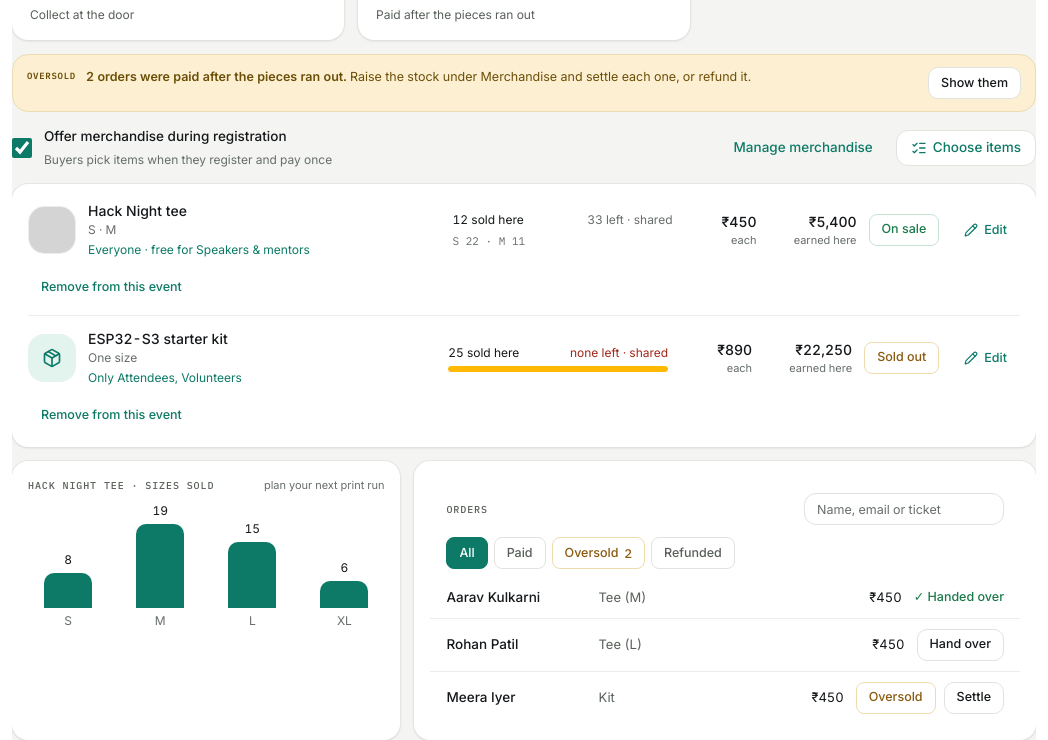
an event's merchandise › filters the orders by status, oversold among them
(page scrolled)
Expected: the text "Meera Iyer" is shown, [446,690,516,706]
Step 1. Click the button "Oversold 2" → (598, 553), box [552,537,645,569]
(page scrolled)
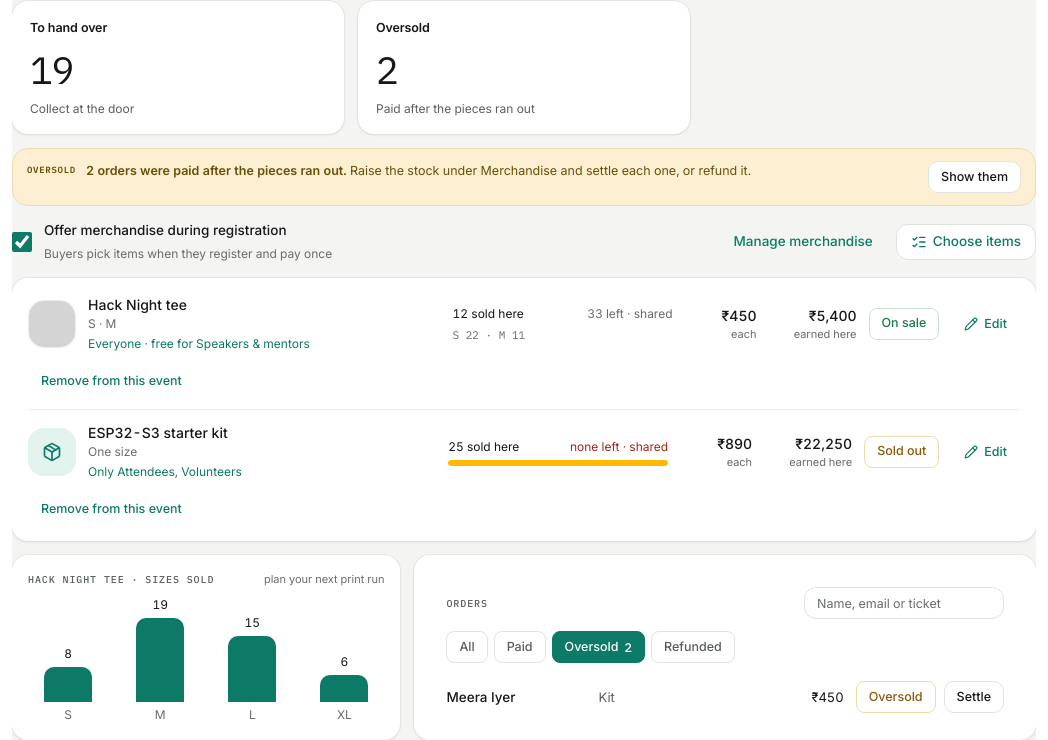
Expected: the text "Meera Iyer" is shown, [446,689,516,705]
Expected: the text "Rohan Patil" is gone
Step 2. Click the button "Refunded" → (693, 647), box [651,631,735,663]
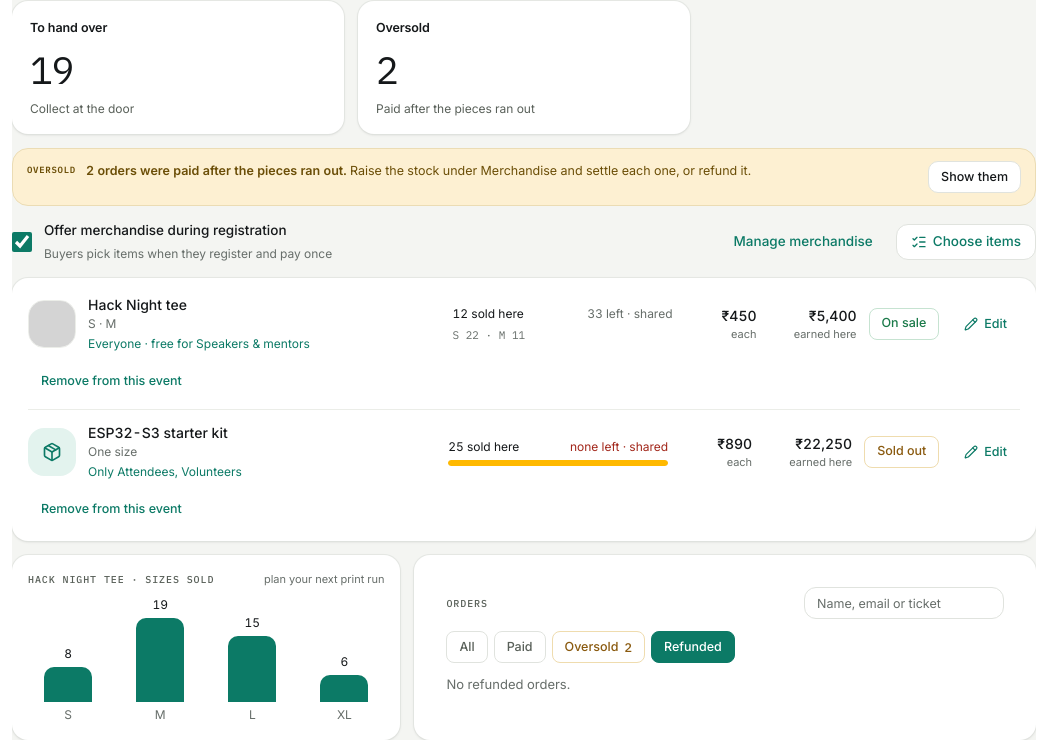
Expected: the text "No refunded orders." is shown, [446,676,570,692]
Step 3. Click the button "All" → (467, 647), box [446,631,488,663]
(page scrolled)
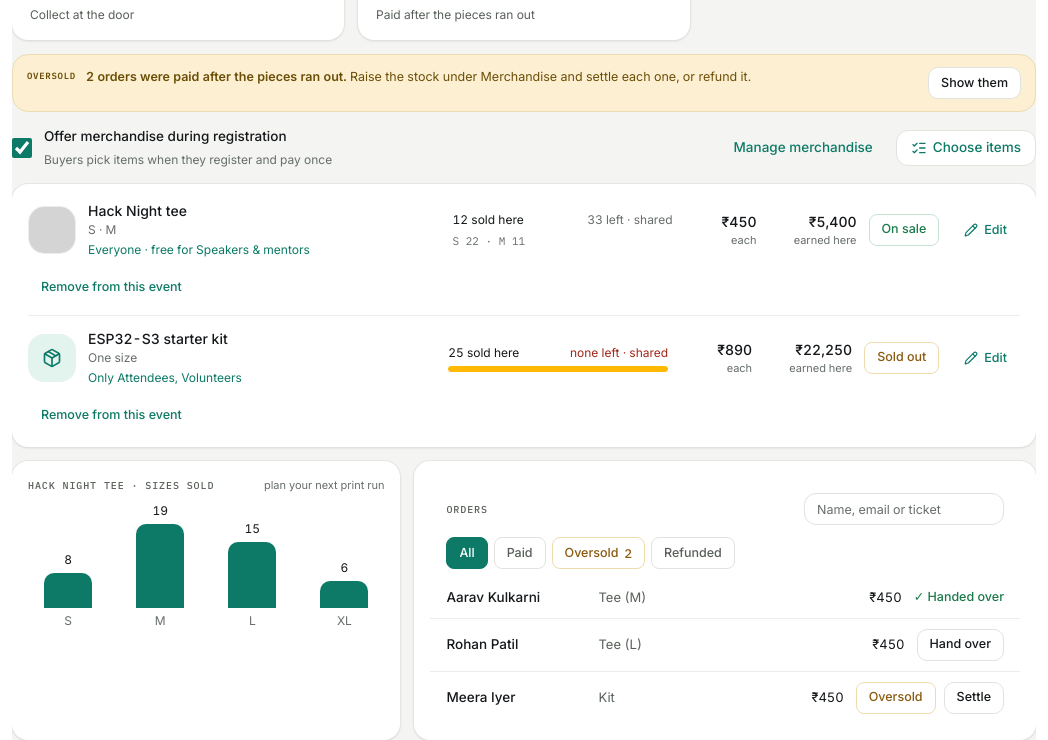
Expected: the text "Rohan Patil" is shown, [446,636,518,652]
